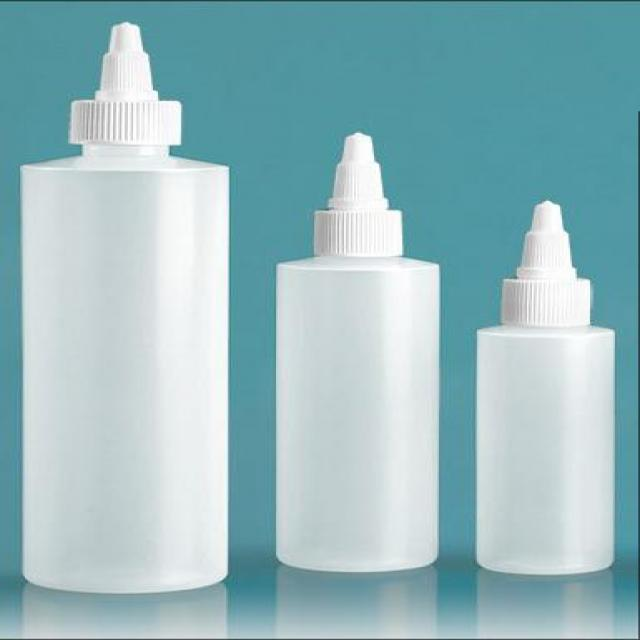plastic_bottle: (18, 18, 239, 598), (275, 131, 443, 581), (477, 200, 615, 575)
